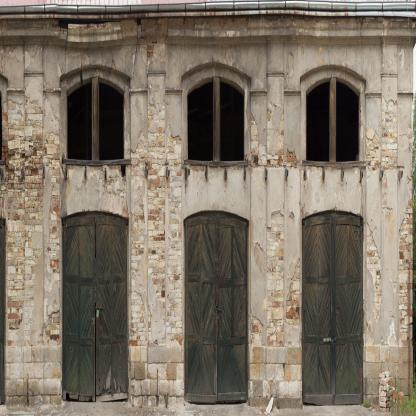Building Outline: (0, 0, 416, 408)
Door: (61, 209, 129, 404), (184, 209, 249, 404), (302, 210, 364, 406)
Facade: (0, 0, 413, 408)
Ground Floor: (0, 11, 413, 408)
Roof: (0, 0, 416, 15)
Window: (187, 77, 213, 162), (66, 77, 92, 160), (98, 77, 124, 160), (336, 76, 360, 162), (220, 76, 244, 161), (306, 77, 330, 162)
